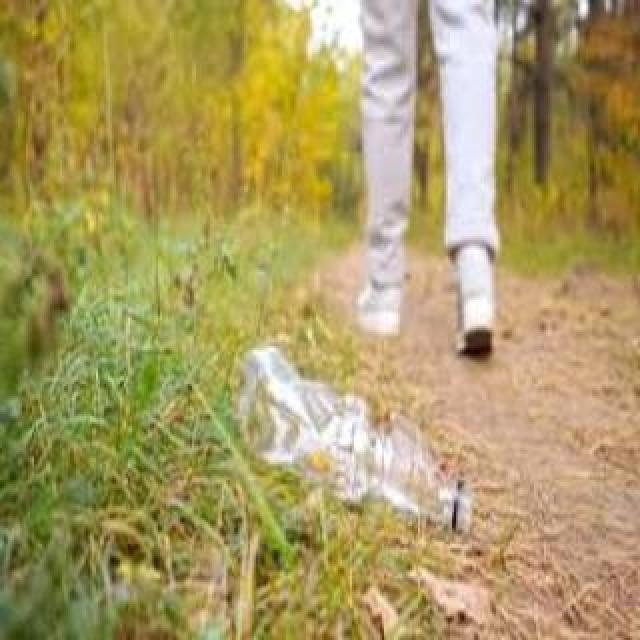Pet_Bottle: (238, 346, 472, 534)
